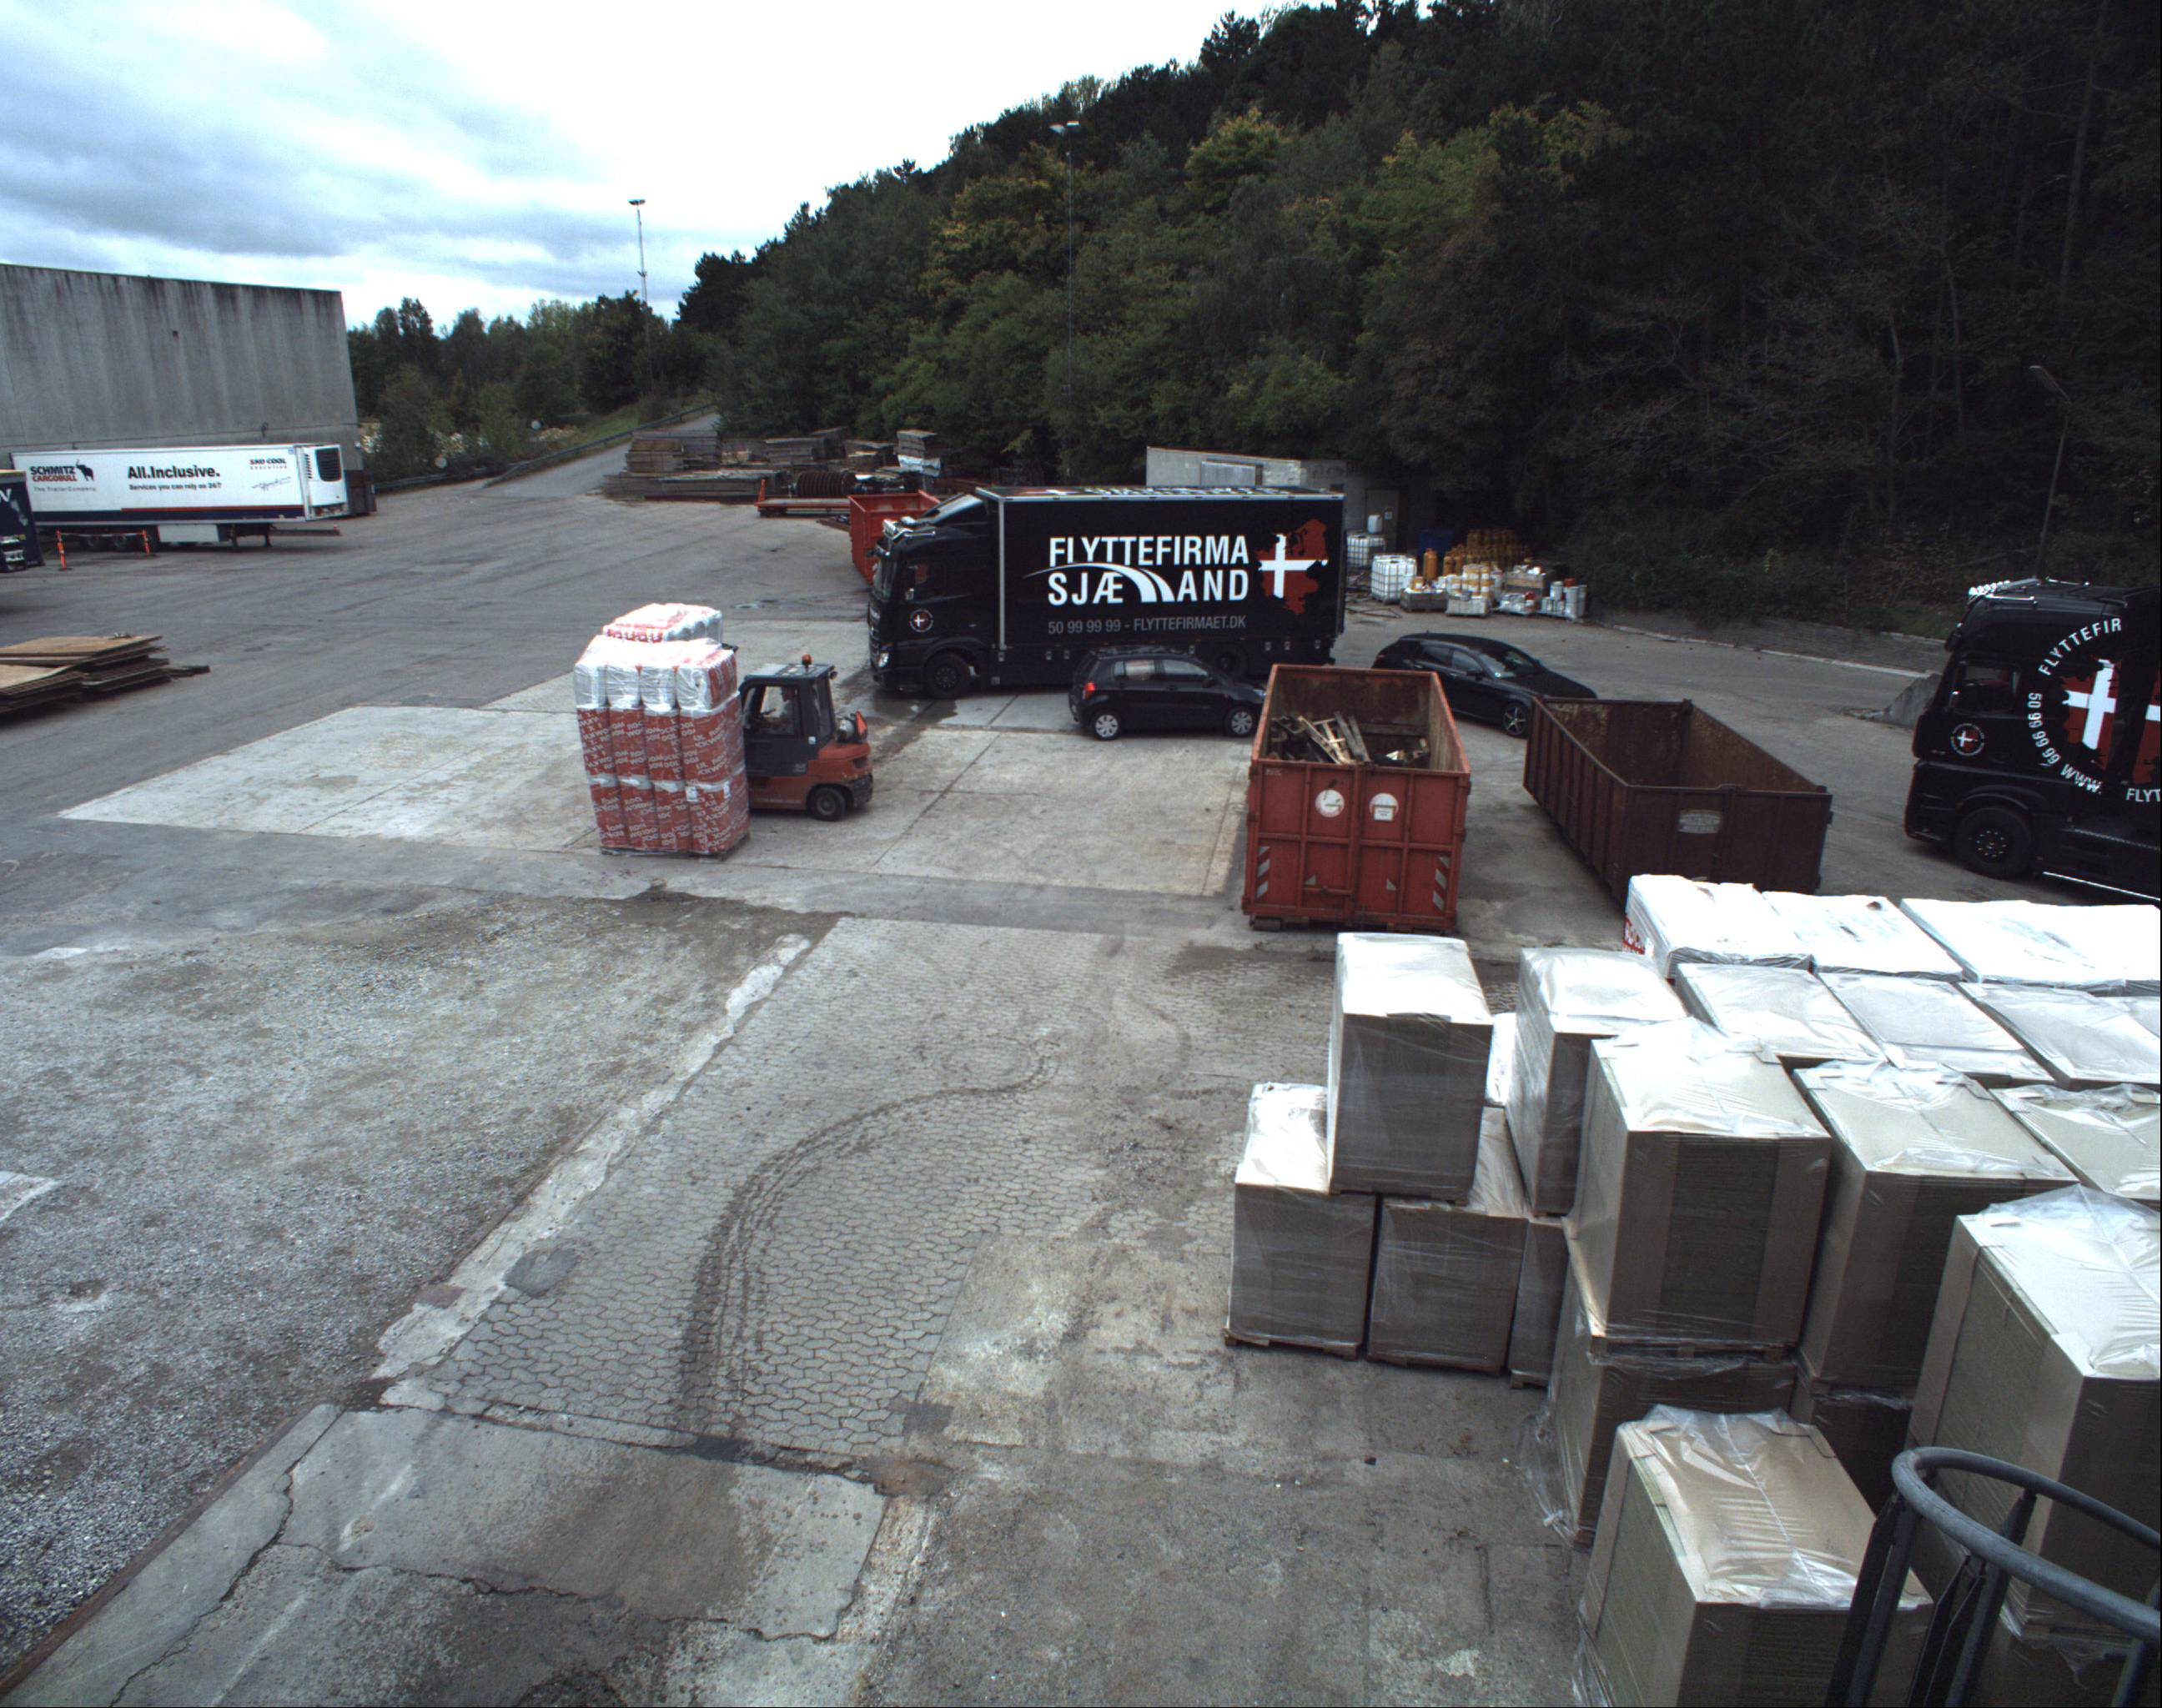rockwool_batts: (583, 637, 742, 848), (593, 576, 714, 635)
